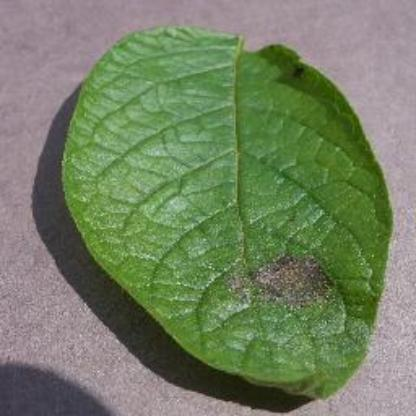Late-Blight: (58, 23, 395, 403)
